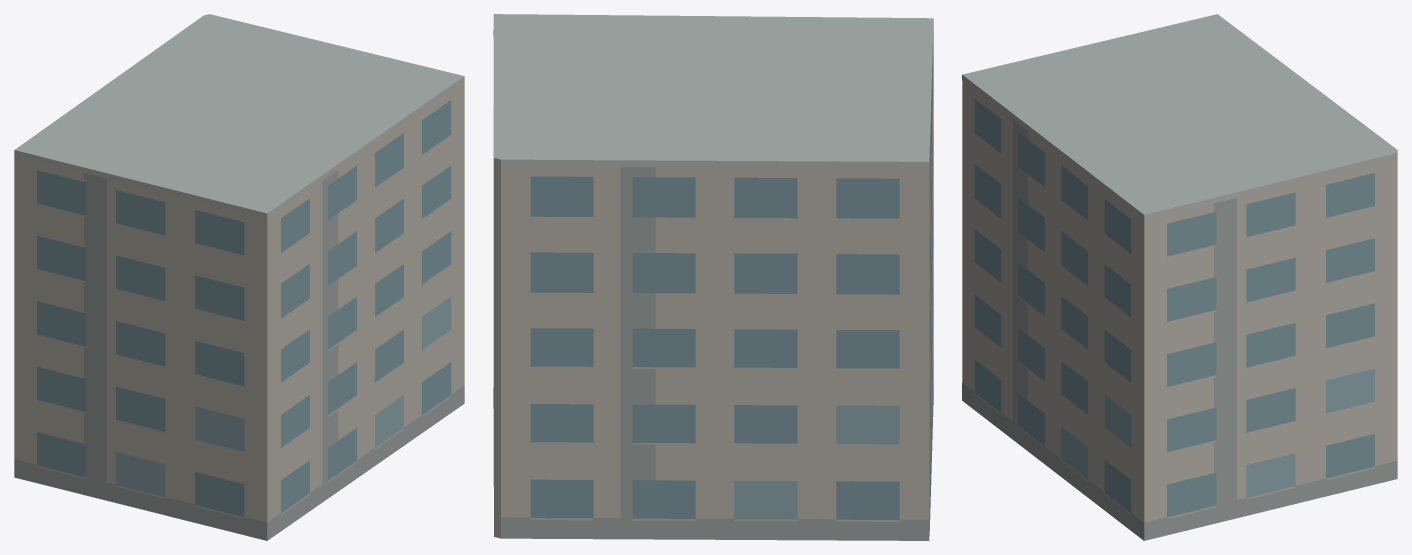
The model's file is survey-upis-32580545.glb.
3 views of the same model, side by side, from view 1: azimuth 30°, elevation 25°; view 2: azimuth 150°, elevation 25°; view 3: azimuth 270°, elevation 25° (orthographic). The views are drawn at different scales.
Parts seen in each view (by area): view 1: survey-upis-32580545.tmp; view 2: survey-upis-32580545.tmp; view 3: survey-upis-32580545.tmp.
Part boxes in pixels (x1,y1,x2,y2): survey-upis-32580545.tmp: (14, 14, 464, 540); survey-upis-32580545.tmp: (493, 14, 933, 540); survey-upis-32580545.tmp: (962, 14, 1397, 540).
Size of the model in its own units: 18.7 by 14.15 by 17.14.
